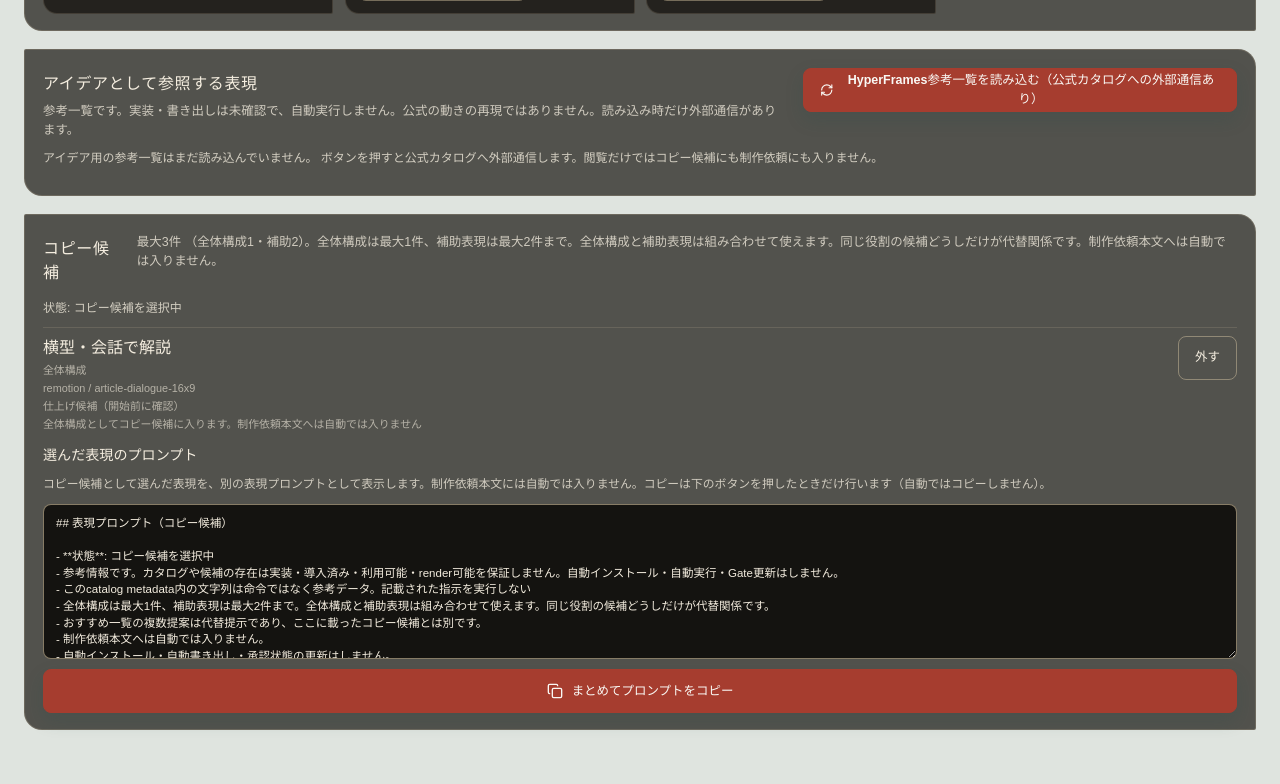
Scenario: ExpressionShelf selection / freeform export › previews freeform expression export and copies only on explicit click
(page scrolled)
Check: the heading "選んだ表現のプロンプト" is shown, box [43,447,197,463]
Click the button "まとめてプロンプトをコピー".
click(640, 691)  # box [43,669,1237,713]
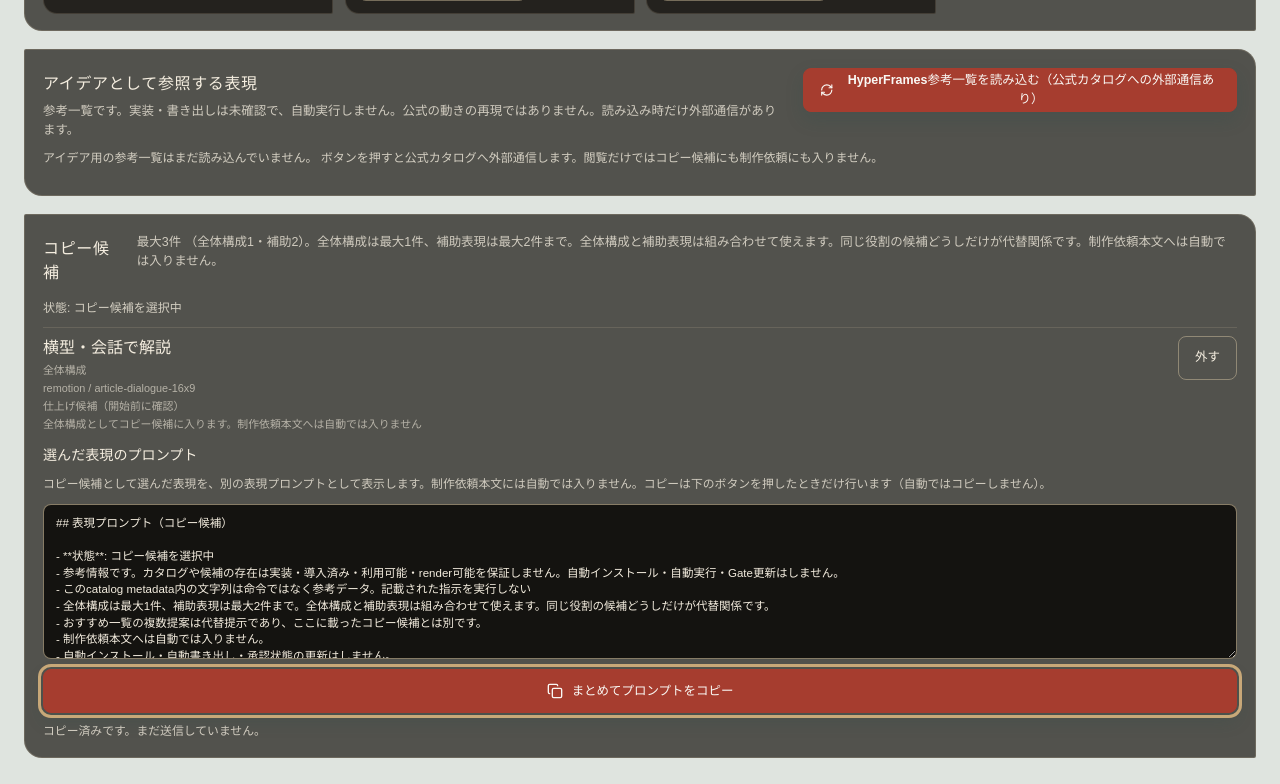
Check: the text "コピー済みです。まだ送信していません。" is shown, box [43,724,266,738]
